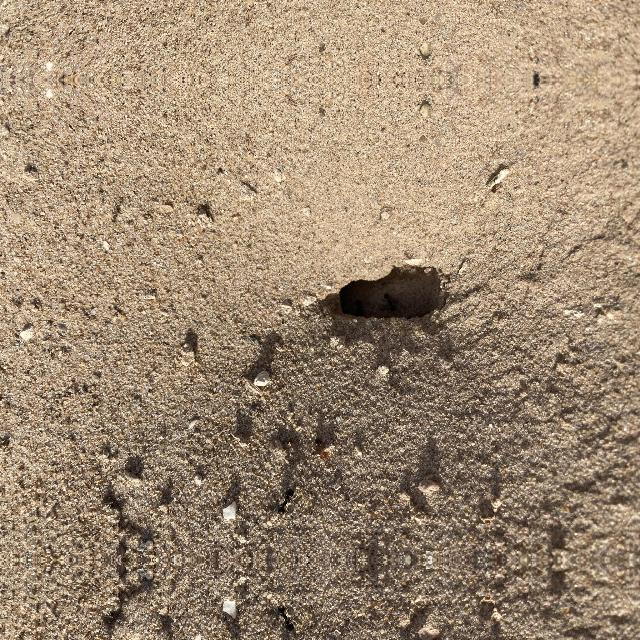Messor: (276, 485, 294, 515), (276, 605, 294, 635)
